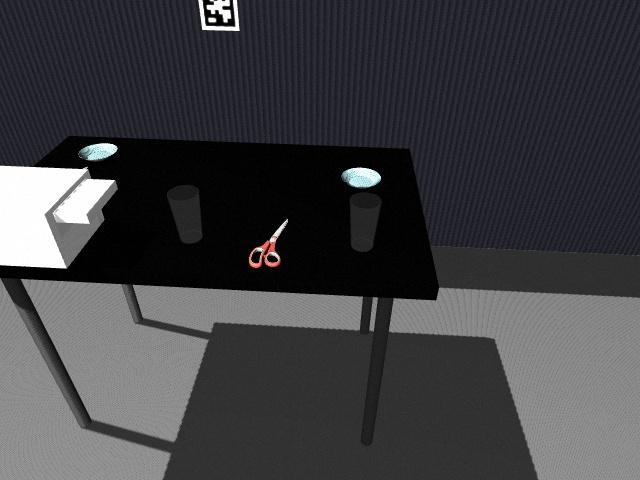cup: (167, 186, 202, 244), (349, 192, 382, 252)
plate: (76, 142, 120, 163), (340, 167, 382, 189)
scissors: (248, 216, 289, 267)
